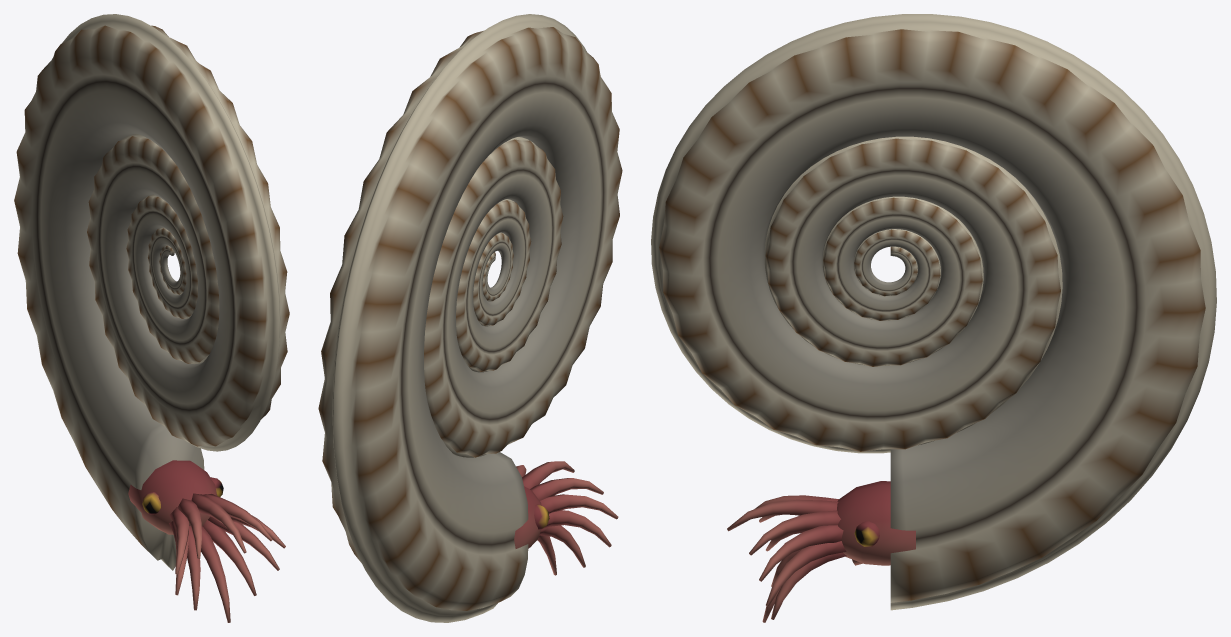
File: Hildoceras.fbx
3 renders of one model, left to right at view 1: azimuth 30°, elevation 25°; view 2: azimuth 150°, elevation 25°; view 3: azimuth 270°, elevation 25°, orthographic. The views are drawn at different scales.
Parts seen in each view (by area): view 1: Hildoceras; view 2: Hildoceras; view 3: Hildoceras.
Part boxes in pixels (left/top/right/bottom): Hildoceras: left=14, top=14, right=289, bottom=622; Hildoceras: left=318, top=14, right=622, bottom=622; Hildoceras: left=651, top=14, right=1216, bottom=622.
Bounding box in the file's own units: 0.3919 × 1.83 × 1.54.
